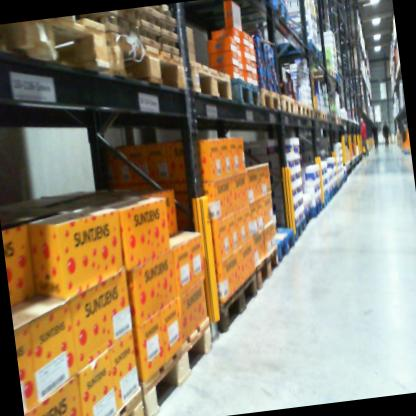pallet: (131, 310, 226, 416), (103, 20, 195, 107), (0, 14, 110, 83), (200, 269, 262, 339), (188, 0, 294, 33), (187, 48, 240, 109), (240, 239, 282, 297), (258, 219, 298, 274), (97, 379, 154, 416), (265, 73, 298, 122), (235, 71, 267, 113), (272, 34, 318, 63), (267, 52, 329, 70), (255, 72, 281, 112), (295, 63, 338, 84), (284, 216, 310, 249), (305, 199, 326, 226), (301, 101, 318, 126), (296, 98, 307, 121), (316, 109, 327, 124)
